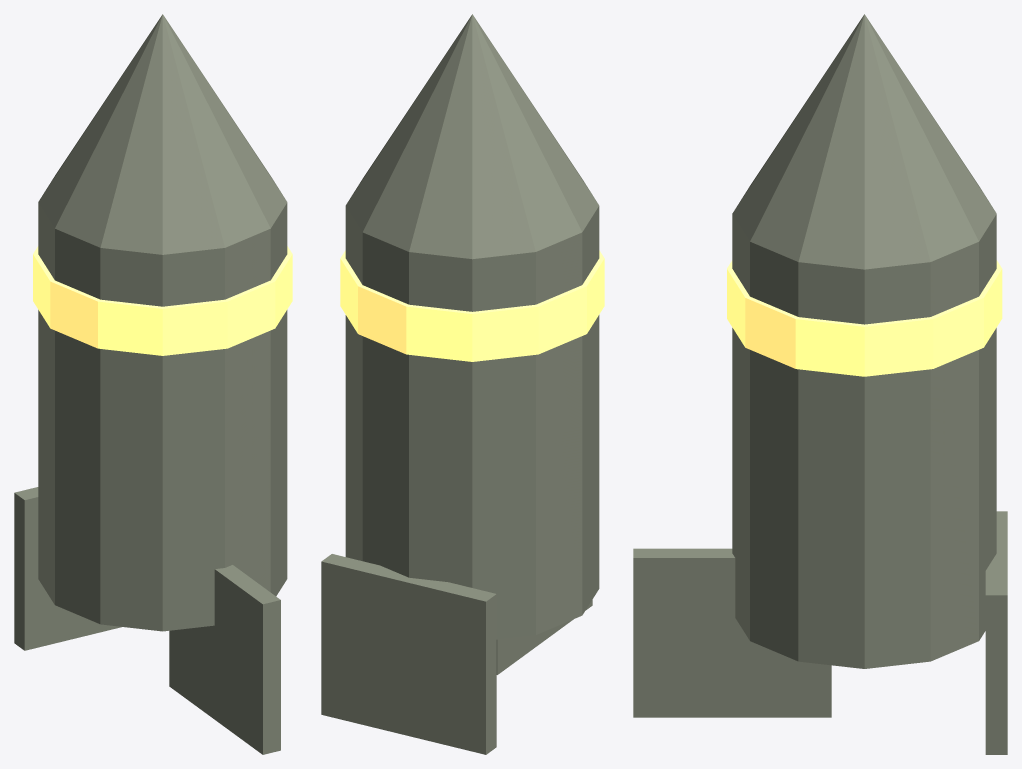
Rendered from mortar_shell.glb.
3 views of the same model, side by side, from view 1: azimuth 30°, elevation 25°; view 2: azimuth 150°, elevation 25°; view 3: azimuth 270°, elevation 25° (orthographic). The views are drawn at different scales.
Parts seen in each view (by area): view 1: mortar_shell; view 2: mortar_shell; view 3: mortar_shell.
Boxes of the visible parts, box(x1,y1,x2,y2) form: mortar_shell: box(14, 14, 292, 754); mortar_shell: box(321, 14, 604, 754); mortar_shell: box(633, 14, 1007, 754).
Bounding box in the file's own units: 0.25 × 0.7 × 0.34.
